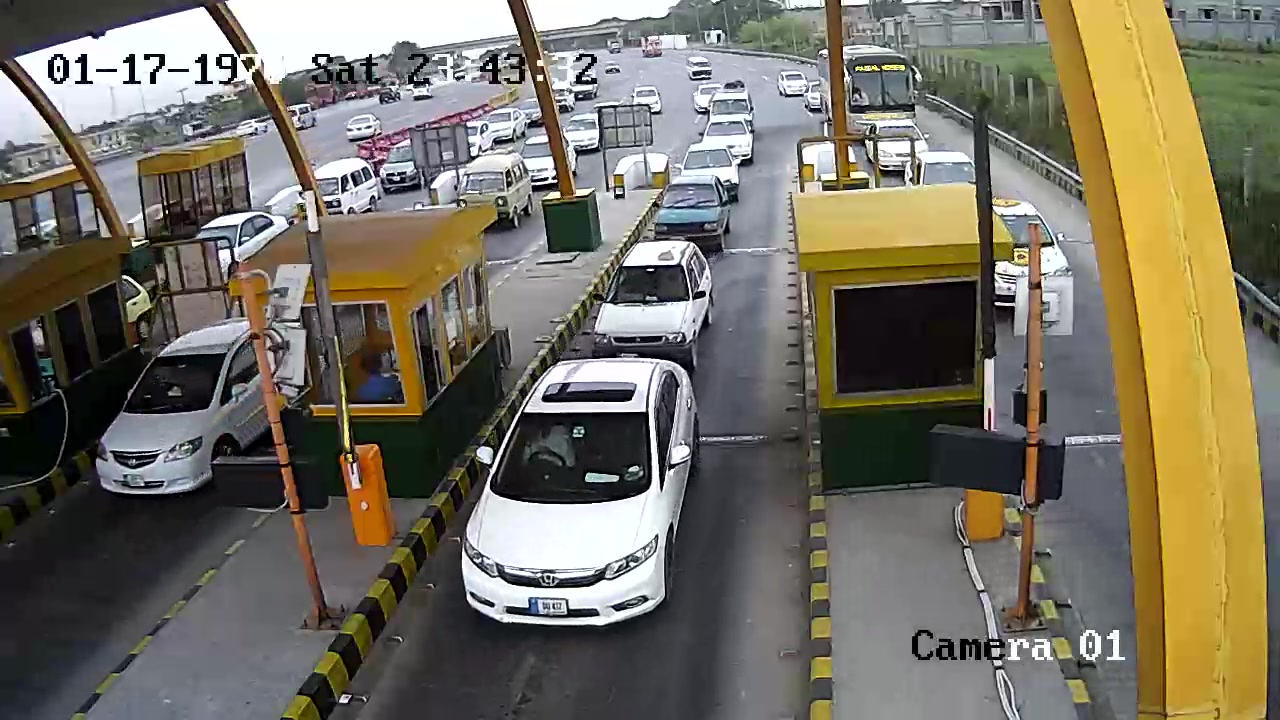F1: (456, 355, 734, 631)
